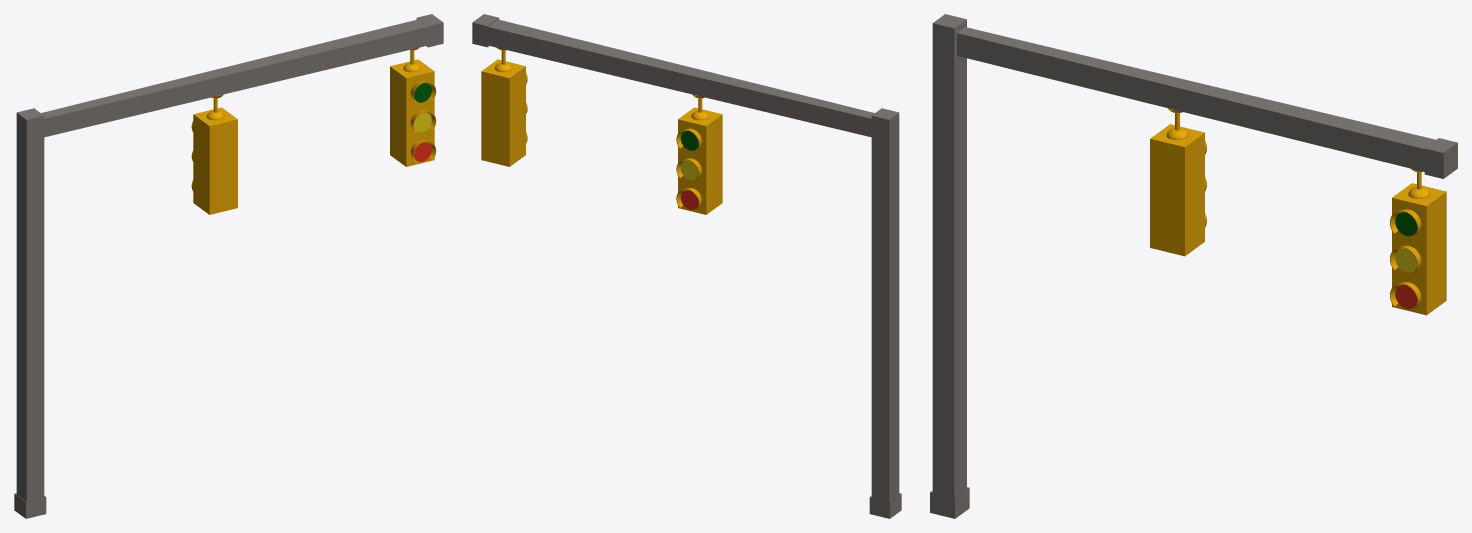
Rendered from hangingtrafficlight_doubl.fbx.
3 views of the same model, side by side, from view 1: azimuth 30°, elevation 25°; view 2: azimuth 150°, elevation 25°; view 3: azimuth 330°, elevation 25° (orthographic). The views are drawn at different scales.
Visible parts, largest first — view 1: Cube.002; view 2: Cube.002; view 3: Cube.002.
Boxes of the visible parts, <box> form: Cube.002: <box>14,14,443,518</box>; Cube.002: <box>472,14,901,518</box>; Cube.002: <box>930,14,1457,518</box>.
Bounding box in the file's own units: 1541 × 1404 × 159.
